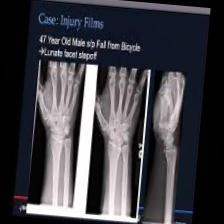intra-articular-fracture: (27, 57, 187, 224)
